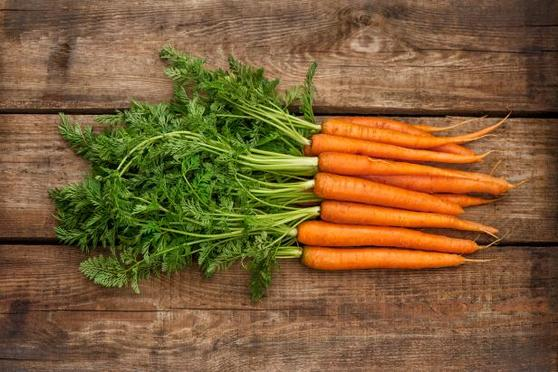carrot: (308, 171, 466, 216), (290, 219, 484, 250), (296, 244, 472, 271), (311, 156, 481, 182)
